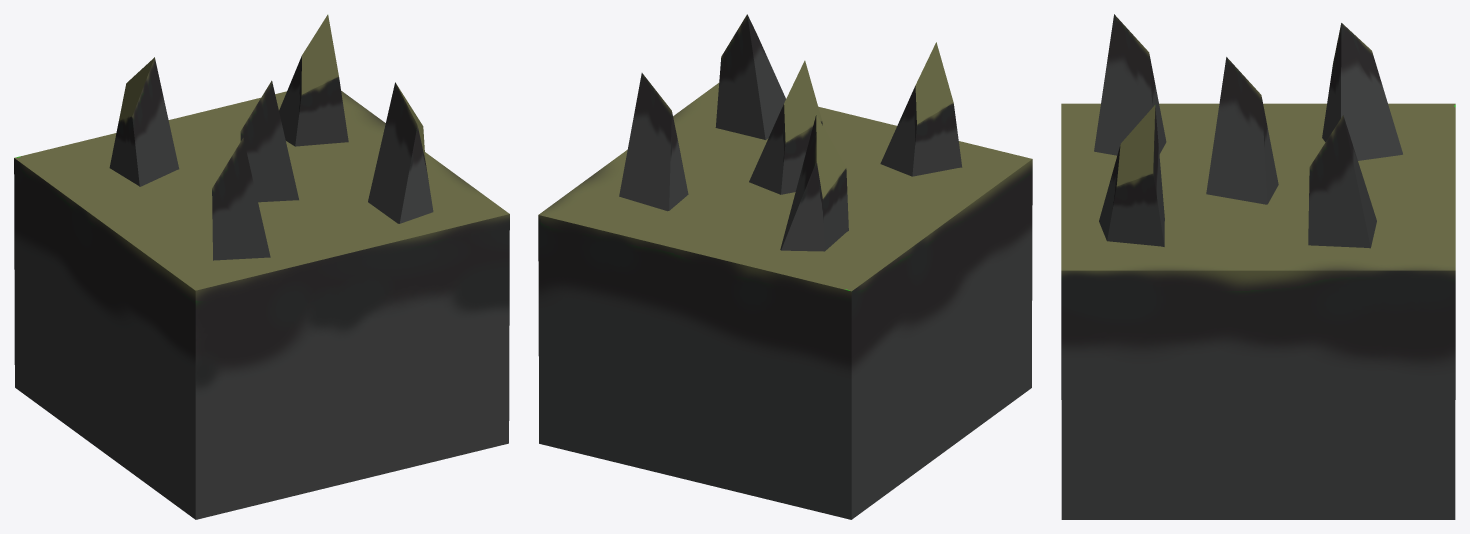
Rendered from mine.glb.
The picture shows the model from 3 angles, left to right: view 1: azimuth 30°, elevation 25°; view 2: azimuth 150°, elevation 25°; view 3: azimuth 270°, elevation 25°; orthographic projection. The views are drawn at different scales.
Parts seen in each view (by area): view 1: Cube; view 2: Cube; view 3: Cube.
Part boxes in pixels (x1,y1,x2,y2): Cube: (14, 14, 509, 519); Cube: (538, 14, 1032, 519); Cube: (1061, 14, 1455, 519).
Bounding box in the file's own units: 5.1 × 5.39 × 5.1.
Materials: 1 (1 with a texture image).
